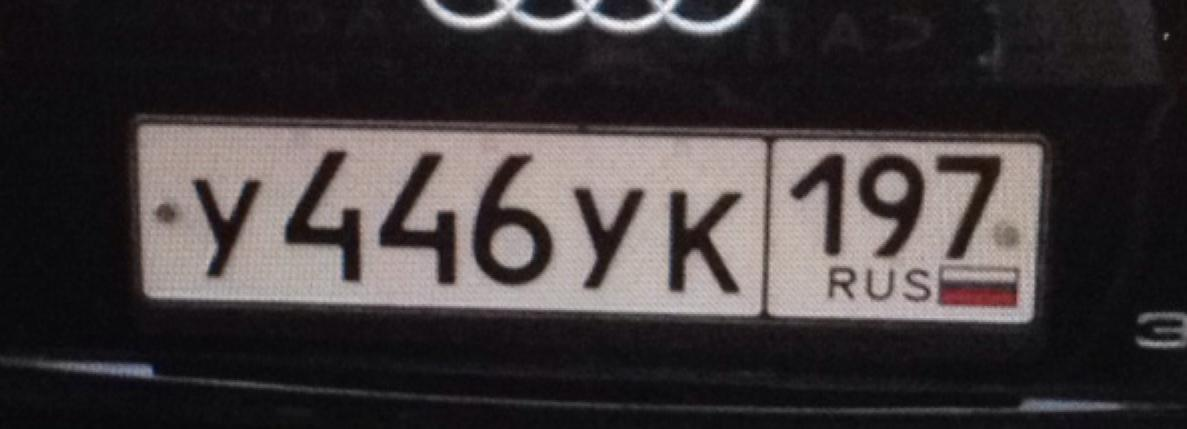license-plateSW: (129, 119, 1051, 324)
